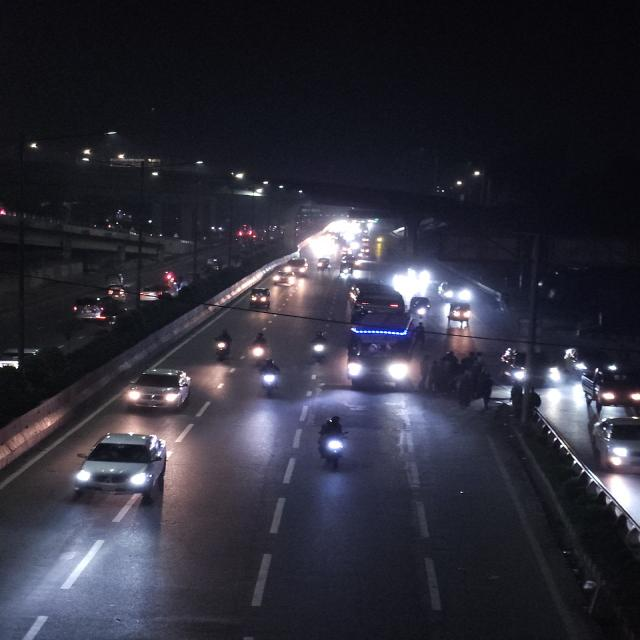bus: (343, 310, 420, 392), (346, 279, 407, 319)
car: (68, 430, 176, 502), (121, 366, 196, 414), (589, 414, 640, 474), (564, 346, 621, 372), (69, 295, 110, 322), (436, 278, 475, 306), (138, 286, 174, 302), (284, 256, 309, 276), (271, 270, 295, 286)
cng: (445, 298, 474, 326), (407, 293, 434, 323), (248, 286, 274, 308), (339, 256, 358, 278), (102, 272, 128, 286), (315, 256, 333, 272)
motorcycle: (311, 414, 356, 470), (256, 358, 284, 398), (304, 330, 332, 366), (246, 328, 272, 364), (210, 328, 236, 364)
pedestrian: (478, 371, 494, 408), (507, 380, 523, 411), (422, 355, 432, 389)
pickup_van: (578, 367, 640, 409)
